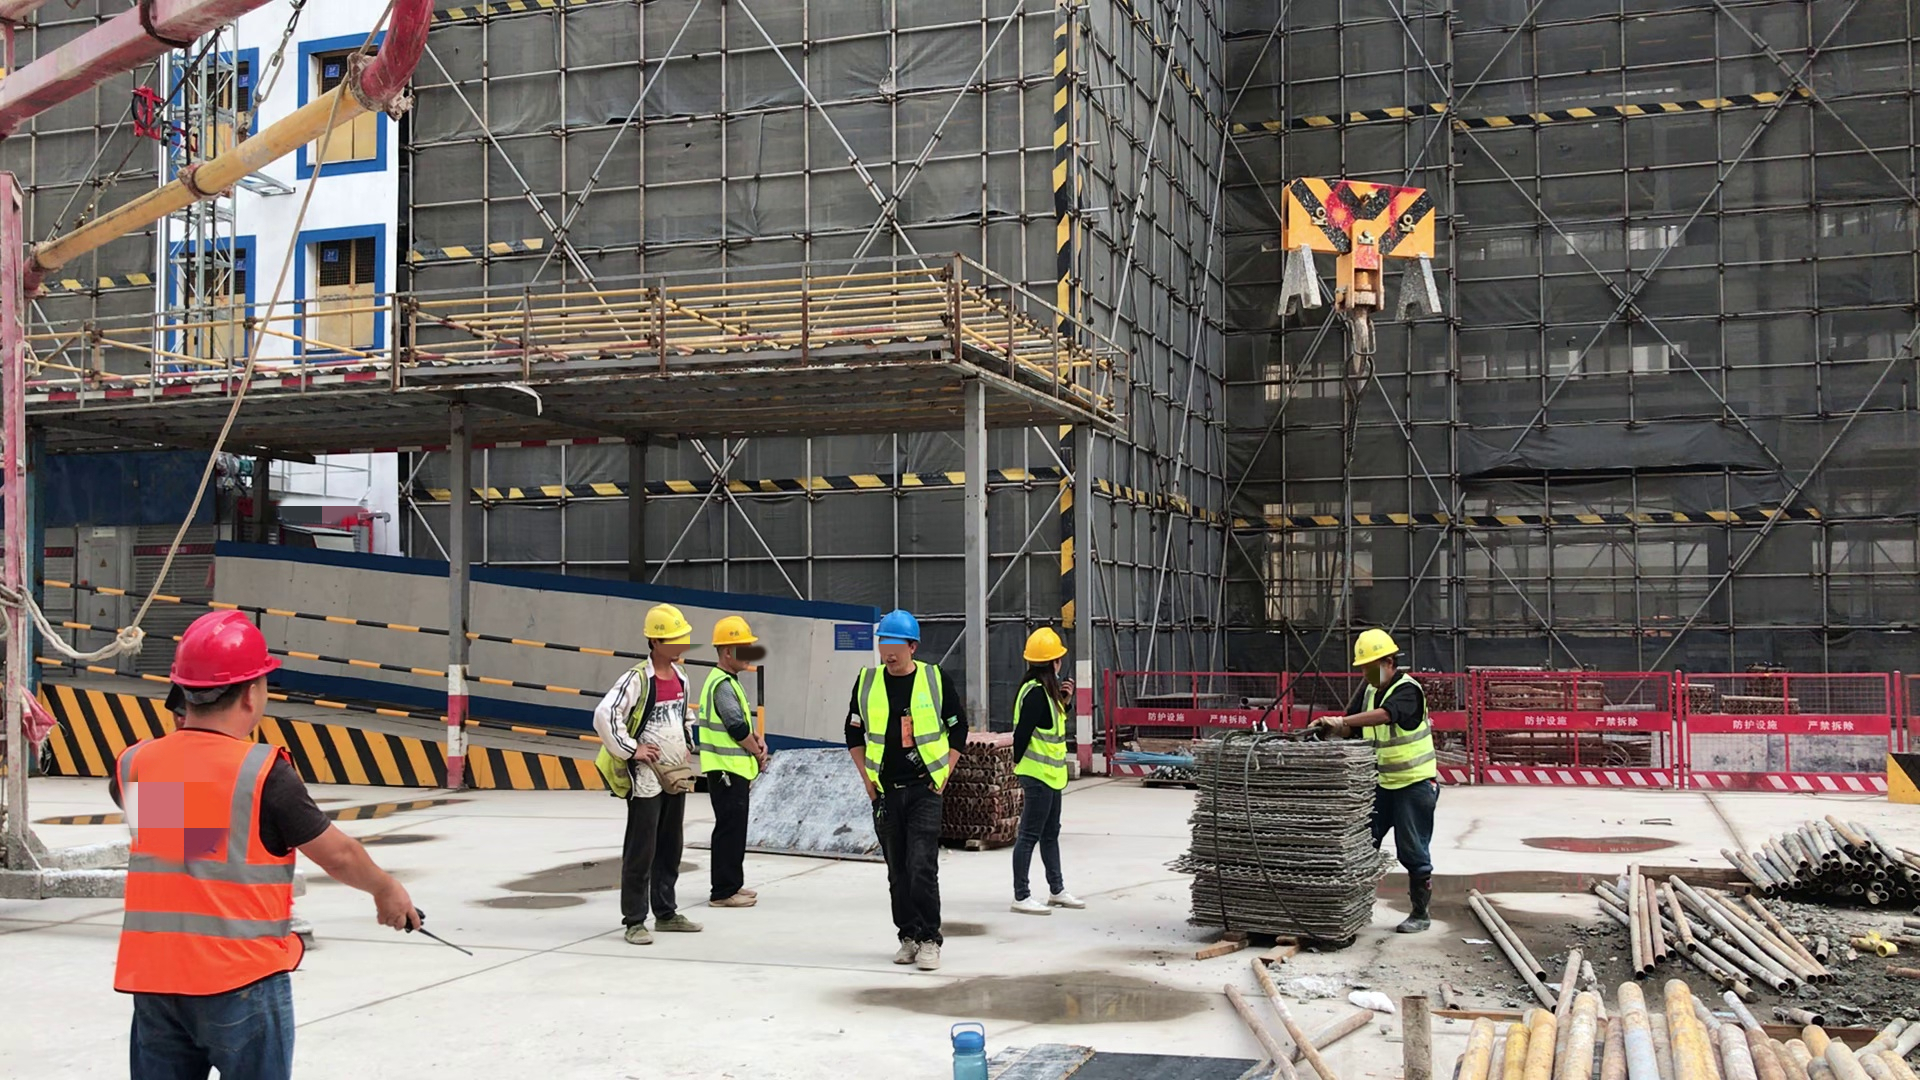helmet: (166, 610, 281, 687), (644, 603, 693, 642), (1351, 626, 1398, 668), (1023, 620, 1070, 661), (712, 616, 761, 649), (874, 611, 920, 645)
person: (112, 611, 423, 1080), (844, 608, 967, 970), (1312, 627, 1441, 933), (593, 604, 704, 950), (696, 618, 771, 912), (1012, 626, 1082, 915)
vest: (117, 733, 305, 993), (859, 661, 950, 796), (1359, 677, 1442, 792), (698, 668, 762, 784), (1012, 676, 1069, 793)
